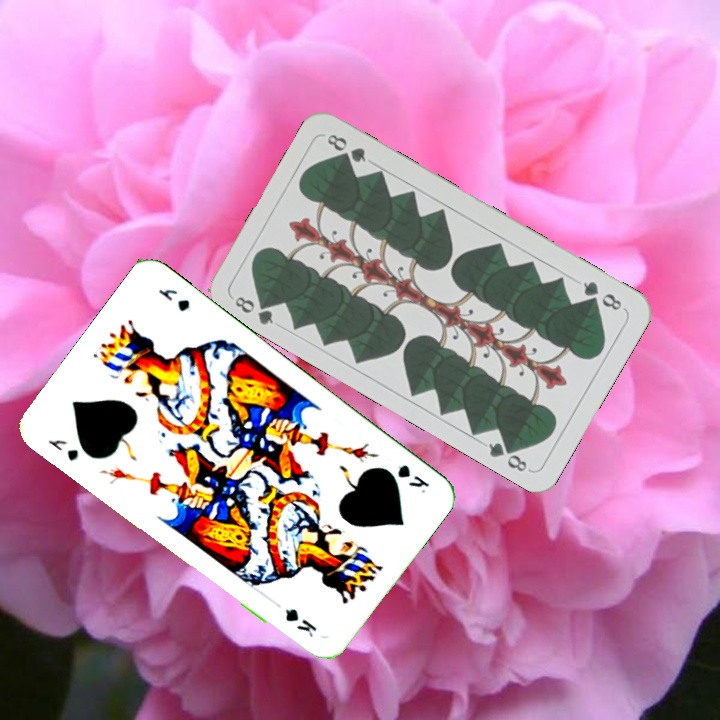G8: (579, 277, 626, 314), (230, 292, 277, 328)
GK: (393, 460, 432, 491), (43, 435, 81, 464)
